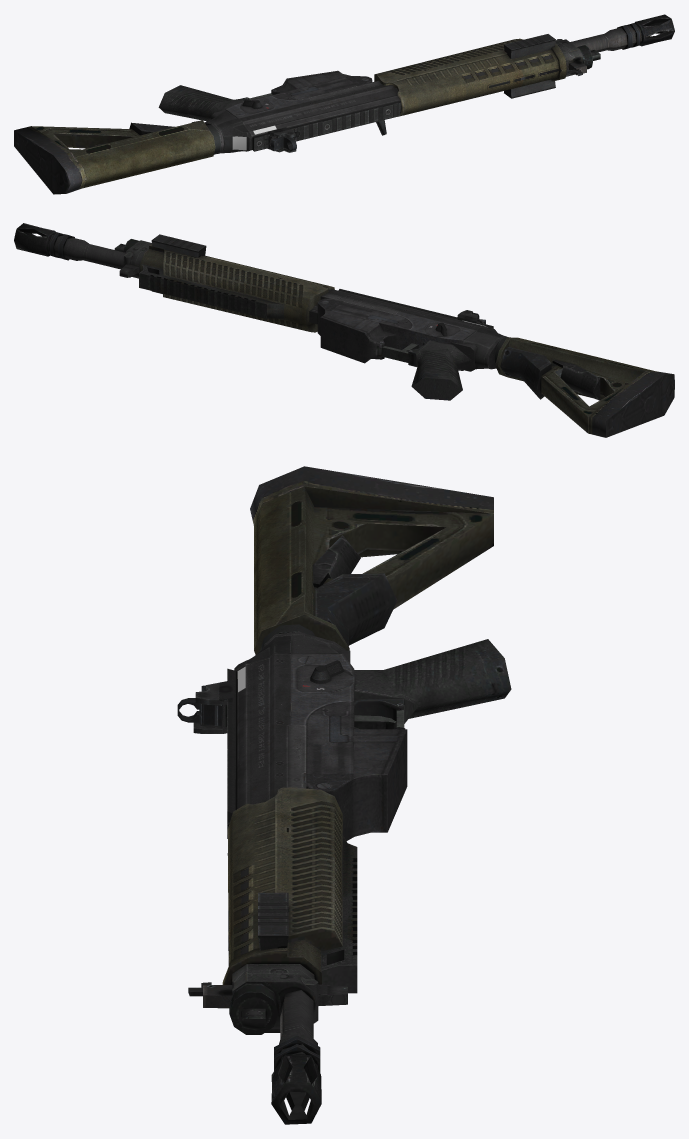
The model's file is t6_wpn_ar_sig556_world_LOD0.obj.
The picture shows the model from 3 angles, top to bottom: view 1: azimuth 30°, elevation 25°; view 2: azimuth 150°, elevation 25°; view 3: azimuth 270°, elevation 25°; orthographic projection. The views are drawn at different scales.
Parts seen in each view (by area): view 1: mtl_t6_wpn_ar_sig556_camo1, mtl_t6_wpn_ar_sig556_camo3, mtl_t6_wpn_ar_sig556_camo2, mtl_t6_wpn_ar_sig556_camo4; view 2: mtl_t6_wpn_ar_sig556_camo1, mtl_t6_wpn_ar_sig556_camo3, mtl_t6_wpn_ar_sig556_camo2; view 3: mtl_t6_wpn_ar_sig556_camo1, mtl_t6_wpn_ar_sig556_camo3, mtl_t6_wpn_ar_sig556_camo2, mtl_t6_wpn_ar_sig556_camo4.
Boxes of the visible parts, <box> form: mtl_t6_wpn_ar_sig556_camo1: <box>14,23,641,194</box>; mtl_t6_wpn_ar_sig556_camo3: <box>31,14,674,154</box>; mtl_t6_wpn_ar_sig556_camo2: <box>217,84,401,153</box>; mtl_t6_wpn_ar_sig556_camo4: <box>242,85,397,131</box>; mtl_t6_wpn_ar_sig556_camo1: <box>48,232,674,437</box>; mtl_t6_wpn_ar_sig556_camo3: <box>14,223,632,432</box>; mtl_t6_wpn_ar_sig556_camo2: <box>327,289,503,370</box>; mtl_t6_wpn_ar_sig556_camo1: <box>177,466,511,1072</box>; mtl_t6_wpn_ar_sig556_camo3: <box>227,507,493,1124</box>; mtl_t6_wpn_ar_sig556_camo2: <box>234,635,291,809</box>; mtl_t6_wpn_ar_sig556_camo4: <box>246,654,274,803</box>.
Bounding box in the file's own units: 103 × 7.84 × 24.12.
